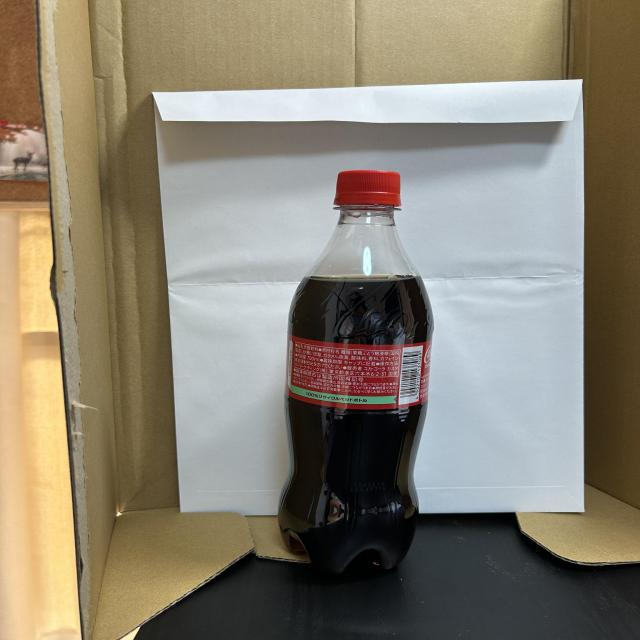high: (278, 170, 433, 573)
